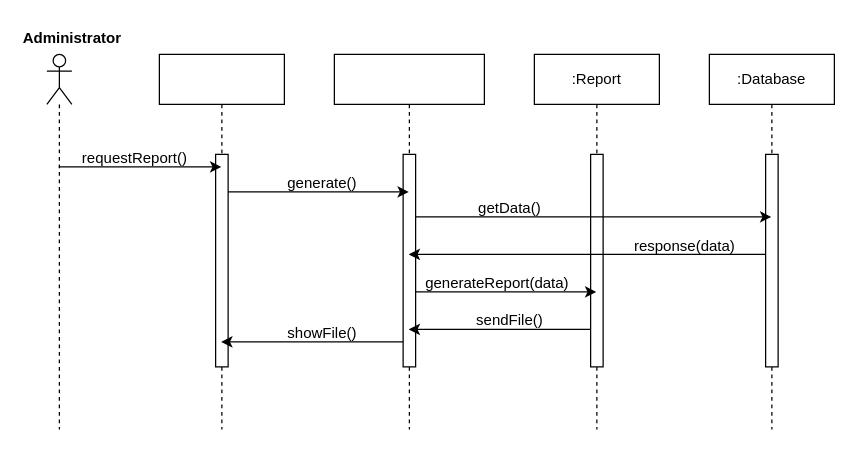
Image size: 856x451. Some labels were removed from this diagram. Here are the shapes that lost their labels. From the top down, the box of each, then its label:
(158, 53, 284, 429): :AdminUI
(333, 53, 484, 429): :ReportController
